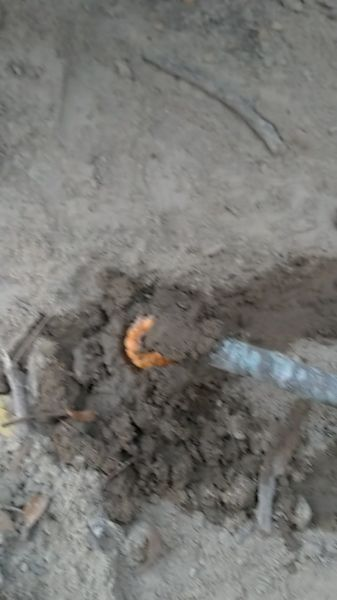eggs: (119, 313, 190, 376)
